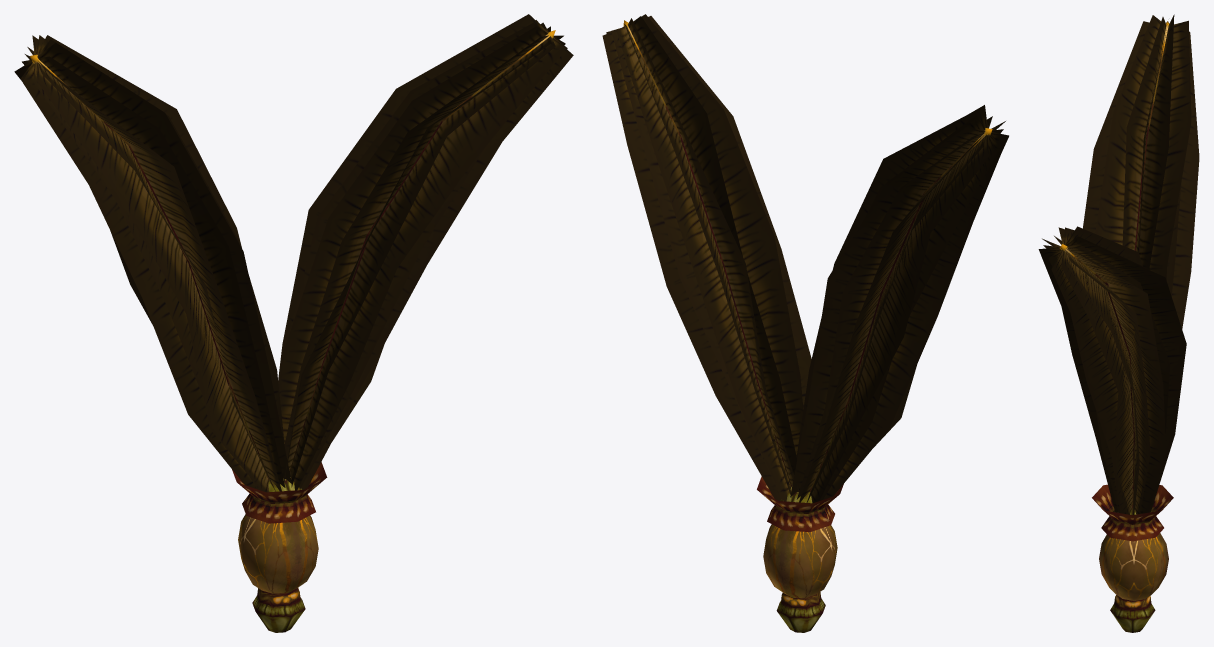
The model's file is Bug_coms_01_a.fbx.
3 views of the same model, side by side, from view 1: azimuth 30°, elevation 25°; view 2: azimuth 150°, elevation 25°; view 3: azimuth 270°, elevation 25° (orthographic). The views are drawn at different scales.
Parts seen in each view (by area): view 1: Bug_comms_01_a; view 2: Bug_comms_01_a; view 3: Bug_comms_01_a.
Boxes of the visible parts, left/top/right/bottom form: Bug_comms_01_a: left=14, top=14, right=573, bottom=632; Bug_comms_01_a: left=602, top=14, right=1008, bottom=632; Bug_comms_01_a: left=1038, top=14, right=1199, bottom=632.
Bounding box in the file's own units: 9.43 × 11.65 × 3.22.
